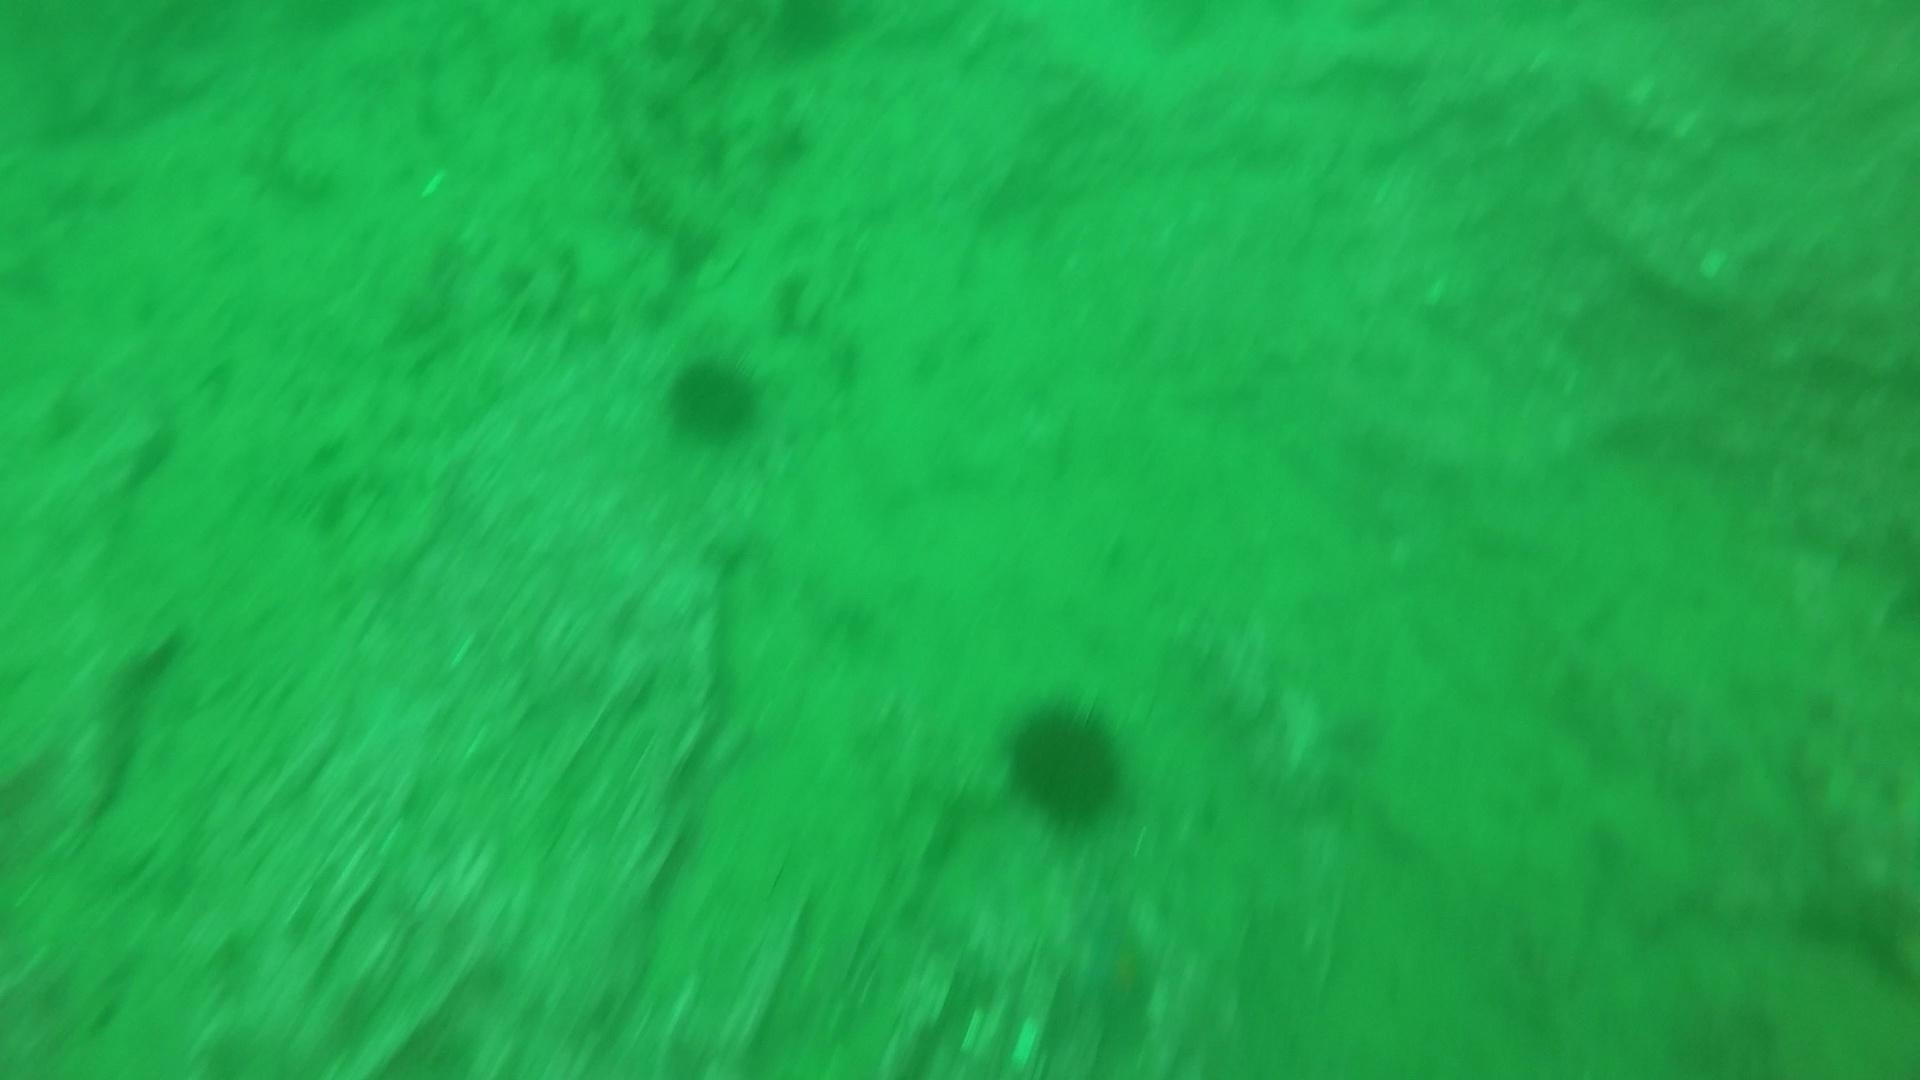echinus: (997, 691, 1135, 833), (658, 347, 769, 447)
starfish: (1069, 903, 1168, 1034)
